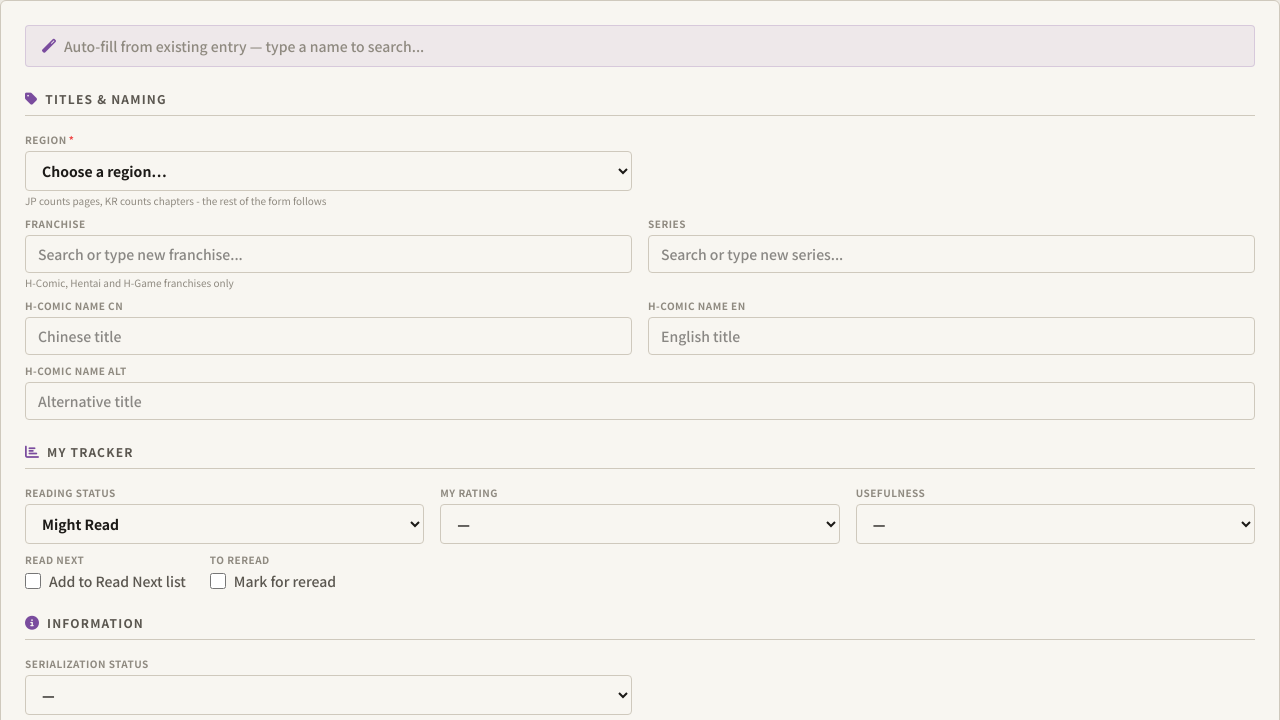
Test: HComicAddTab › shows the JP fields on JP
The width and height of the screenshot is (1280, 720).
Select "JP" in the dropdown named "Region" at (328, 171), box [25, 151, 632, 191]
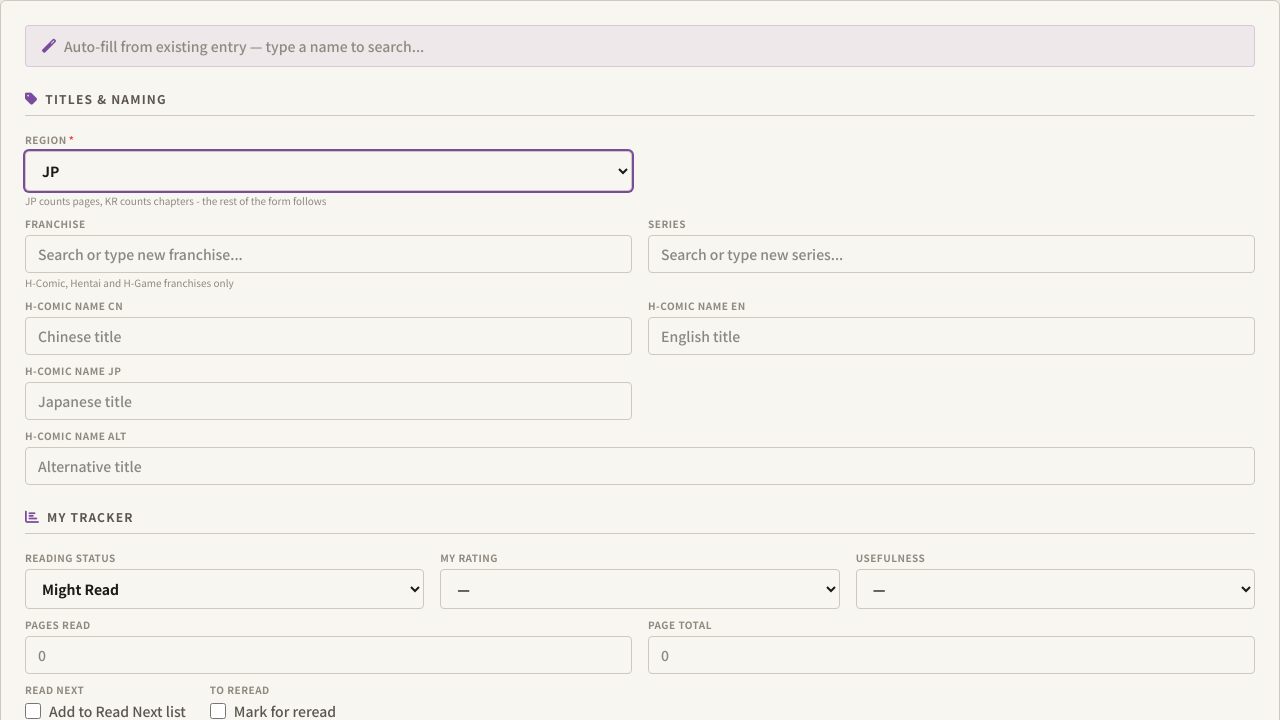
Result: the number field named "Page Total" is shown at [648, 636, 1255, 674]
Result: the number field named "Pages Read" is shown at [25, 636, 632, 674]
Result: the field named "H-Comic Name JP" is shown at [25, 382, 632, 420]
